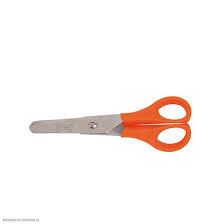tihiras: (27, 86, 194, 156)
